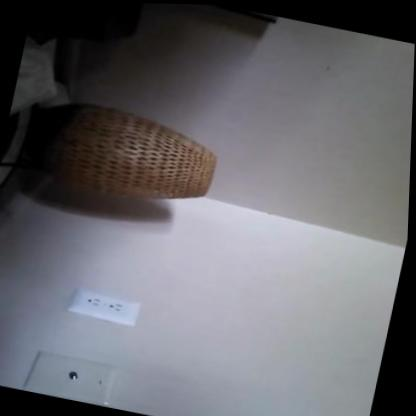OUTLET: (67, 287, 141, 325)
